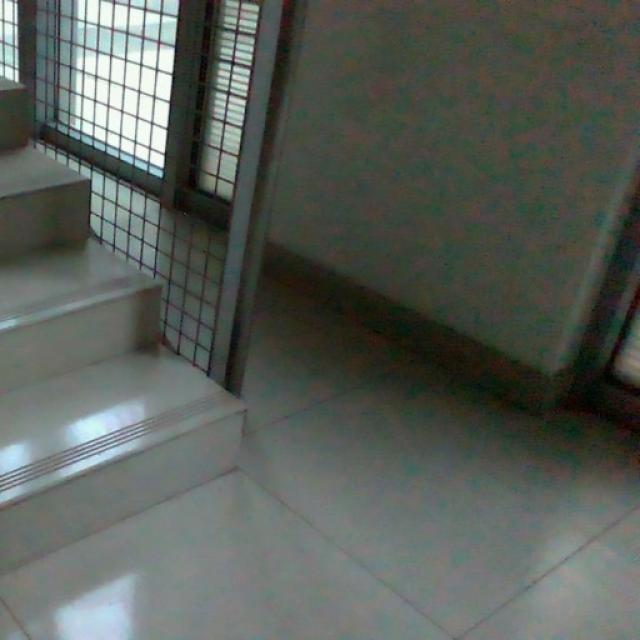stair: (0, 61, 244, 582)
